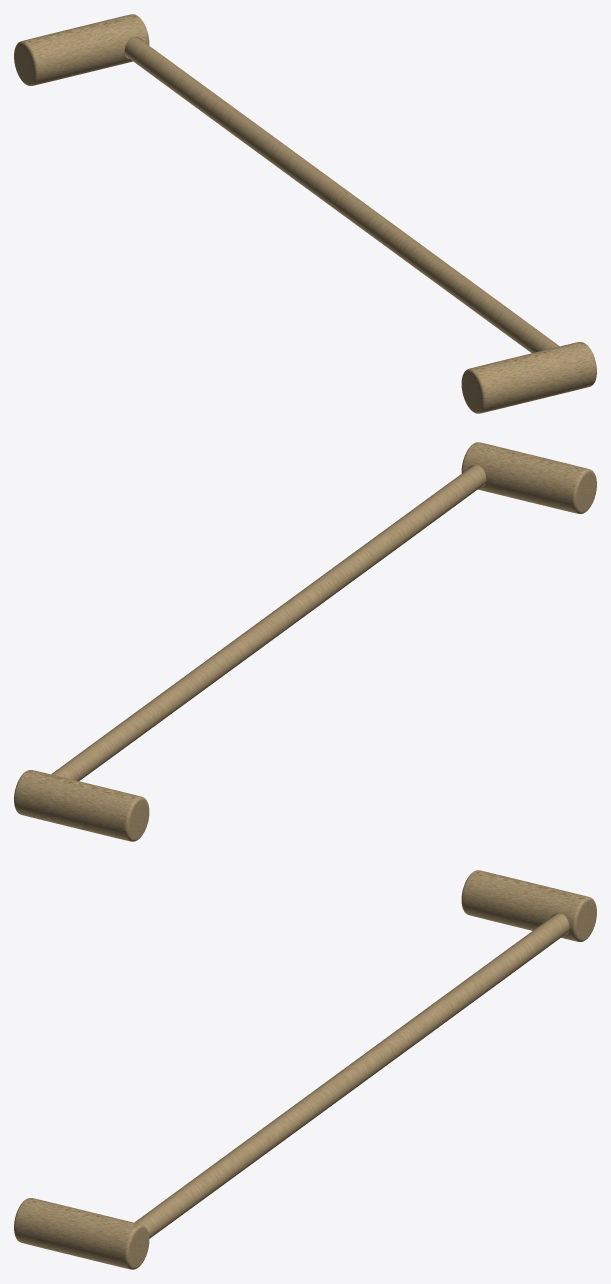
File: finesa 600 single.glb
The picture shows the model from 3 angles, top to bottom: view 1: azimuth 30°, elevation 25°; view 2: azimuth 150°, elevation 25°; view 3: azimuth 330°, elevation 25°; orthographic projection.
Parts seen in each view (by area): view 1: Cylinder.002, Circle.001; view 2: Cylinder.002, Circle.001; view 3: Circle.001, Cylinder.002.
Part boxes in pixels (x1,y1,x2,y2): Cylinder.002: (14,14,596,413); Circle.001: (124,37,559,352); Cylinder.002: (14,442,596,841); Circle.001: (51,465,486,780); Circle.001: (134,913,569,1238); Cylinder.002: (14,870,596,1269).
Bounding box in the file's own units: 0.0831 × 0.0291 × 0.5891.
1 material, 1 textured.
